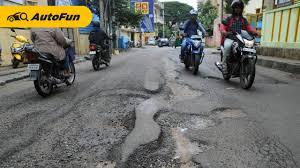Pothole: (0, 90, 300, 168), (142, 48, 192, 95), (257, 74, 287, 89), (202, 69, 223, 84)
